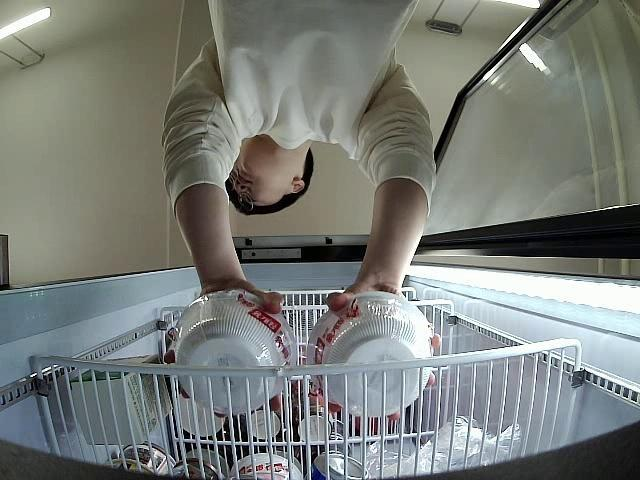09_yukGaeJang: (168, 290, 298, 416), (305, 292, 430, 418)
